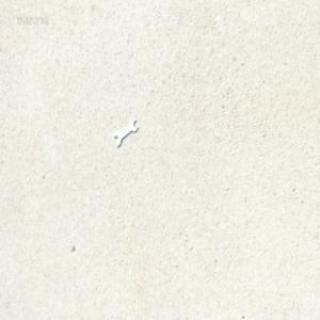Wrenchtrack_idkeyframe: (112, 116, 136, 146)
